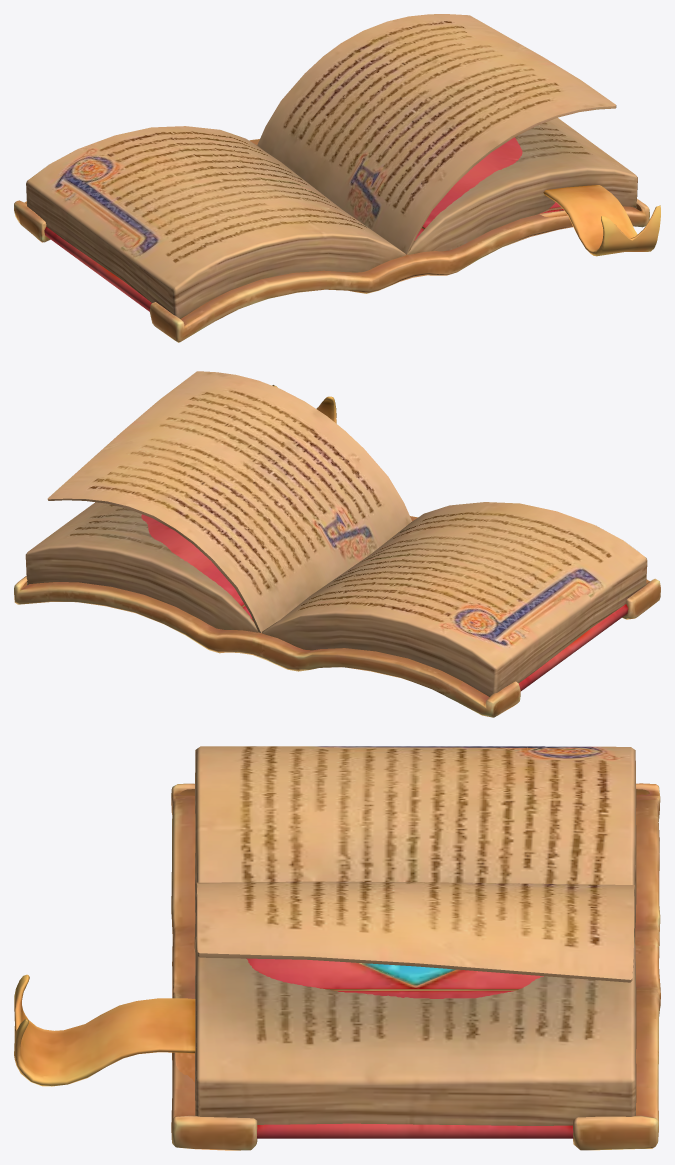
3 renders of one model, top to bottom at view 1: azimuth 30°, elevation 25°; view 2: azimuth 150°, elevation 25°; view 3: azimuth 270°, elevation 25°, orthographic. The views are drawn at different scales.
Visible parts, largest first — view 1: SM_Lore_Book_02_LOD0; view 2: SM_Lore_Book_02_LOD0; view 3: SM_Lore_Book_02_LOD0.
Part boxes in pixels (<box>): SM_Lore_Book_02_LOD0: <box>14,14,660,342</box>; SM_Lore_Book_02_LOD0: <box>14,371,660,717</box>; SM_Lore_Book_02_LOD0: <box>14,746,660,1150</box>.
Bounding box in the file's own units: 0.6256 × 0.1631 × 0.5022.
2 materials, 2 textured.
